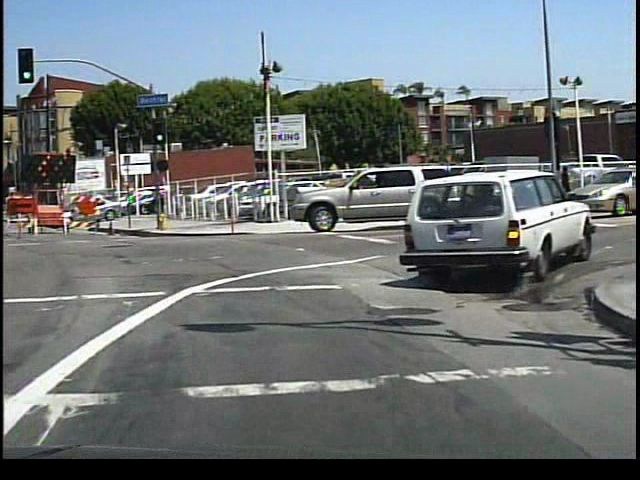person: (557, 161, 576, 204)
